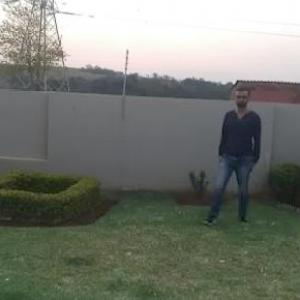follow: (215, 84, 263, 228)
